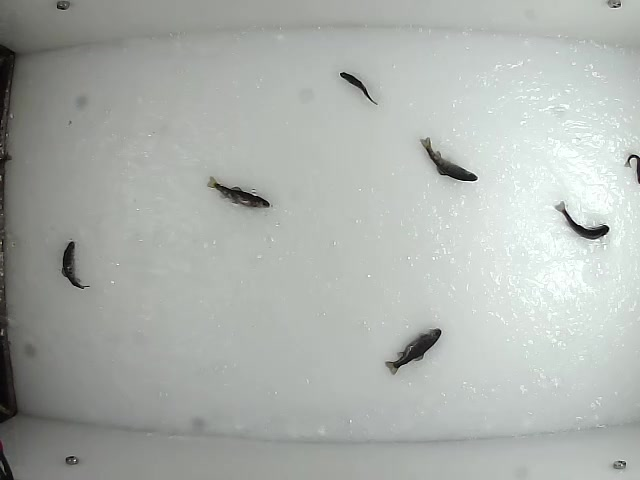fish: (382, 326, 442, 377), (420, 136, 479, 184), (205, 174, 272, 211), (550, 199, 610, 240), (56, 238, 93, 291), (337, 69, 380, 106)
